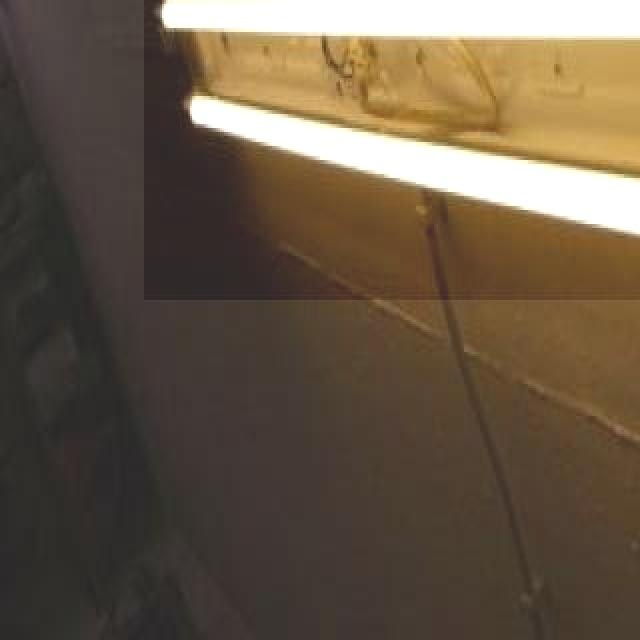fluorescent tube: (182, 96, 640, 296), (140, 0, 640, 64)
